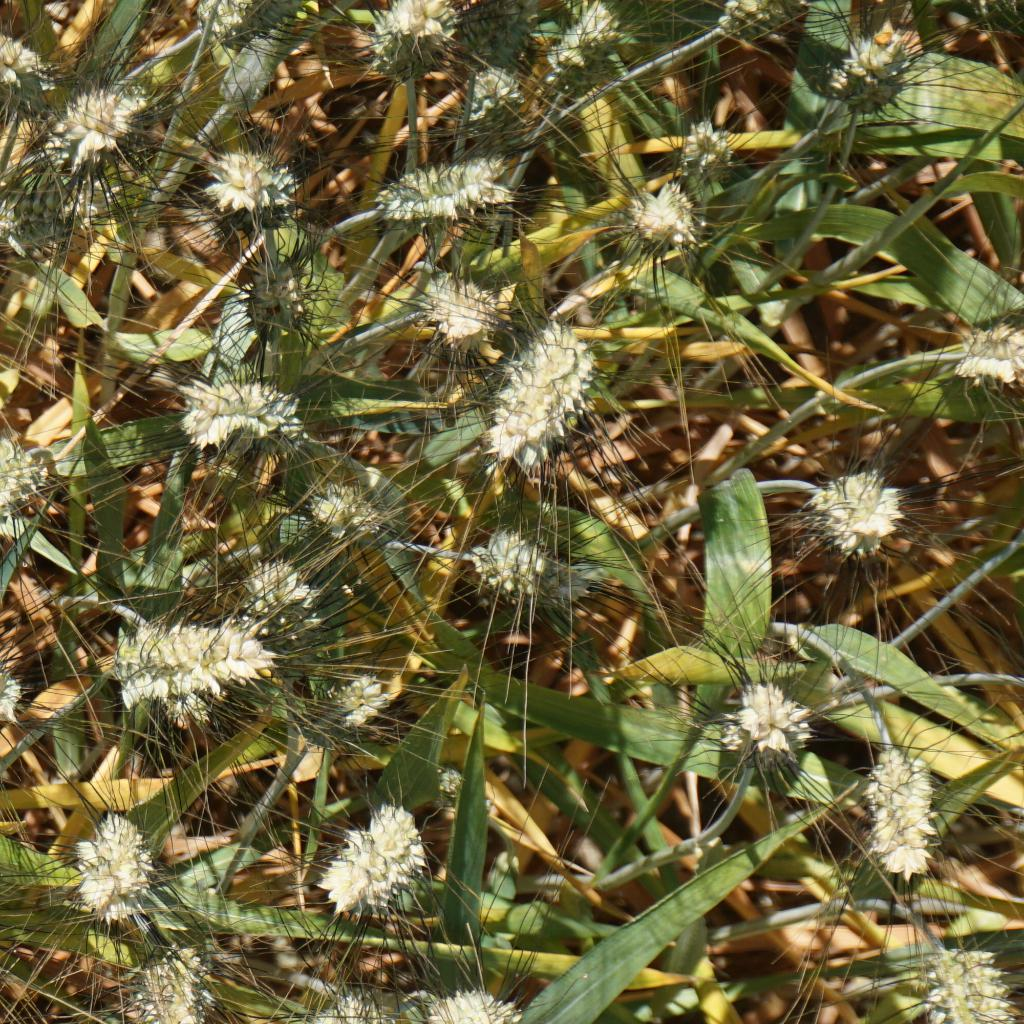0-0: (454, 303, 608, 489), (458, 516, 620, 629), (90, 600, 246, 705), (34, 72, 182, 175), (370, 143, 524, 240), (789, 464, 914, 573), (852, 736, 949, 874), (316, 807, 435, 919), (181, 370, 316, 456), (57, 811, 165, 917), (917, 919, 1024, 1024), (549, 0, 656, 98), (283, 669, 393, 762), (0, 173, 109, 262), (200, 140, 314, 224), (705, 665, 803, 761), (361, 0, 457, 94), (117, 943, 218, 1024), (440, 0, 546, 75), (618, 175, 709, 258), (953, 303, 1024, 409), (242, 249, 321, 340), (415, 756, 502, 832), (0, 25, 67, 118), (220, 547, 313, 612), (425, 271, 505, 346), (675, 120, 748, 193), (838, 39, 907, 112), (0, 431, 47, 537), (717, 0, 803, 56), (218, 0, 321, 45), (307, 470, 377, 535), (460, 60, 521, 128), (425, 982, 521, 1024), (303, 986, 386, 1024)
